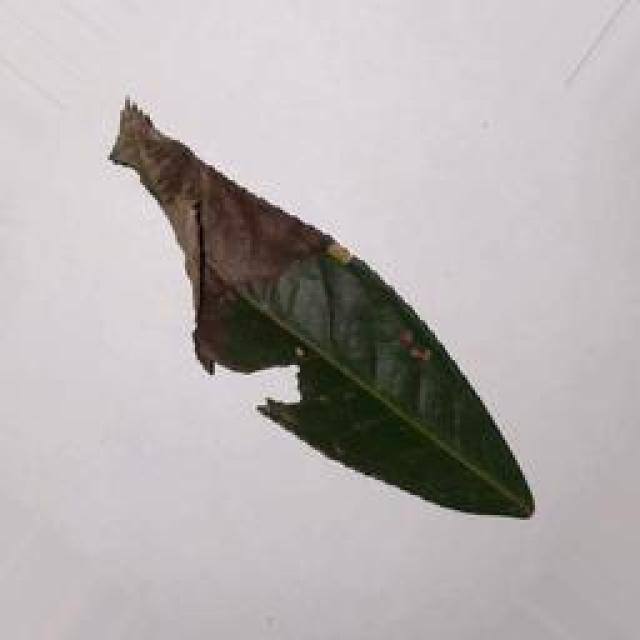Brown Blight: (102, 93, 536, 529)
